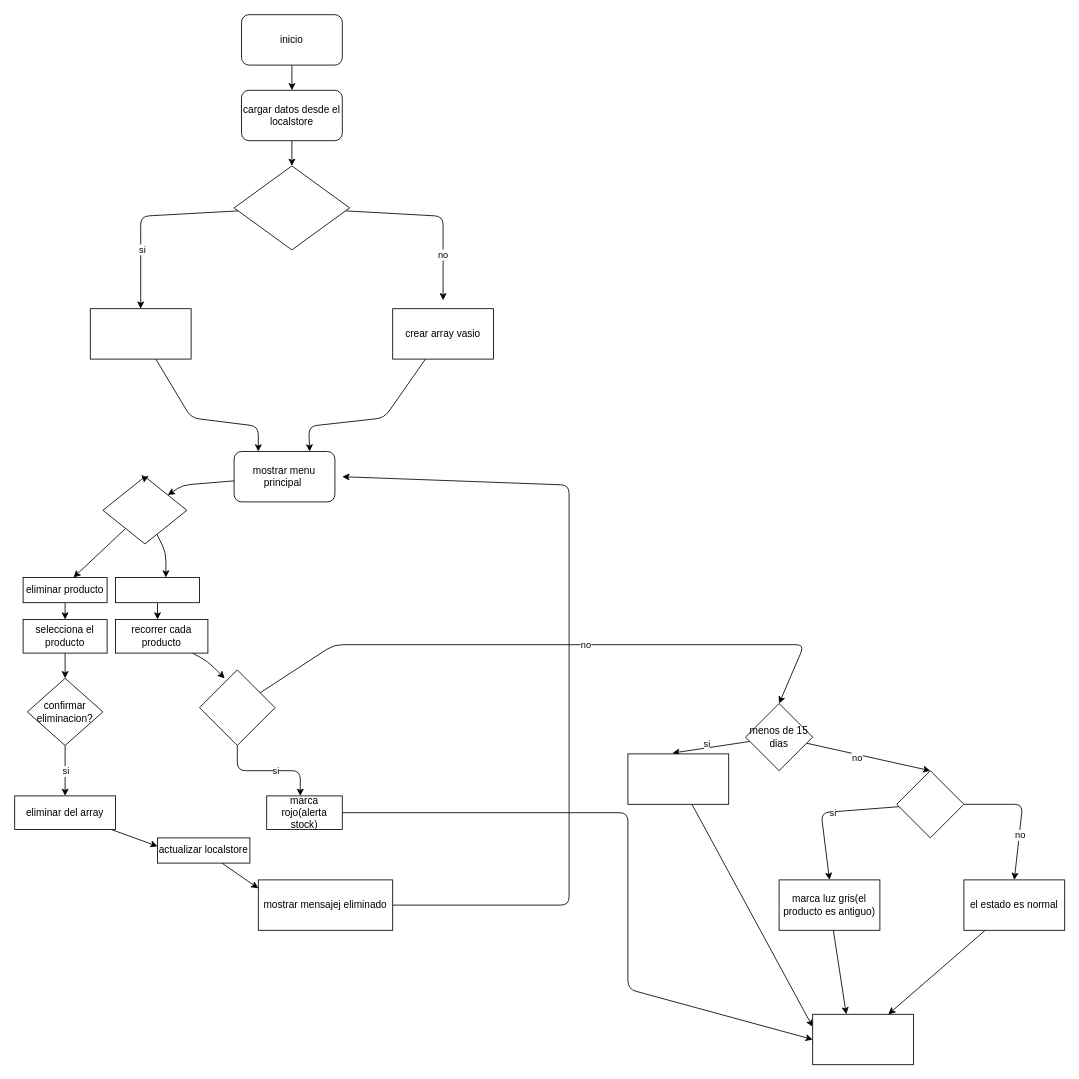
This 1079x1079 diagram has some shape labels left out. The shapes that lost their labels are listed below. From the top down, each one's box as (x1, y1, x2, y2) in pixels, then its label:
(233, 165, 350, 250): existen productos?
(89, 308, 191, 359): cargar productos en memoria
(102, 476, 187, 544): ¿que desea hacer?
(115, 577, 200, 603): consultar inventario
(199, 669, 275, 746): stock -5?
(627, 753, 729, 804): marca luz verde(el producto es nuevo)
(896, 770, 964, 838): mas de 30 dias?
(812, 1013, 914, 1065): muestra la tabla
